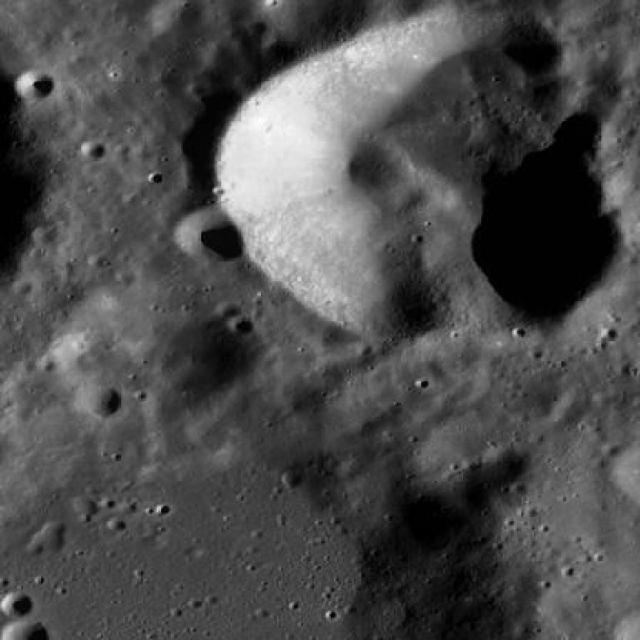crater: (412, 182, 616, 336), (64, 283, 241, 419), (417, 420, 525, 502), (473, 349, 564, 418), (258, 0, 367, 43), (176, 206, 249, 262), (564, 40, 628, 88), (52, 334, 106, 376), (560, 0, 622, 34), (148, 0, 201, 37), (478, 440, 526, 478), (277, 374, 323, 410), (308, 316, 354, 350), (80, 383, 122, 417), (18, 68, 56, 98), (229, 28, 265, 56), (197, 40, 231, 66), (262, 34, 296, 60), (1, 589, 34, 614), (34, 529, 64, 554), (394, 186, 424, 208), (21, 252, 50, 274), (544, 606, 570, 626), (228, 315, 252, 334), (309, 356, 334, 374), (62, 22, 86, 40), (82, 140, 104, 158), (339, 460, 361, 478), (218, 300, 239, 318), (76, 496, 96, 513), (0, 0, 2, 2), (0, 0, 2, 1)
